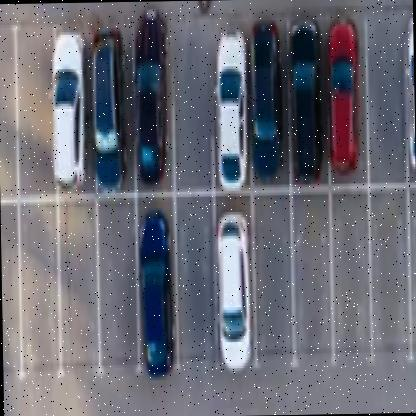Car: (94, 46, 128, 174), (56, 55, 92, 173), (137, 38, 164, 176), (218, 39, 244, 176), (252, 38, 281, 158), (142, 227, 170, 346), (222, 222, 246, 354), (296, 43, 320, 156), (334, 46, 356, 166)
Empty: (19, 212, 57, 346), (178, 218, 214, 350), (334, 214, 368, 331), (101, 216, 133, 338), (62, 226, 94, 346), (256, 224, 288, 344), (297, 214, 328, 334), (22, 56, 51, 181), (178, 66, 206, 176), (371, 50, 399, 158), (374, 224, 402, 330)
